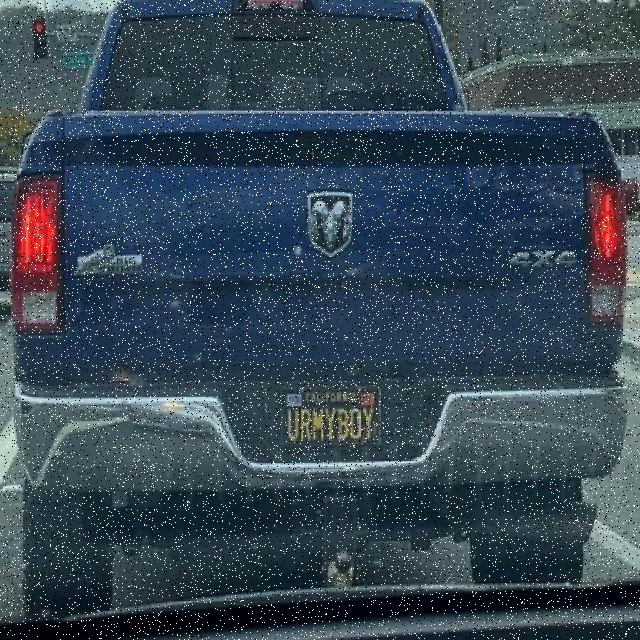licenseplate: (279, 381, 382, 454)
